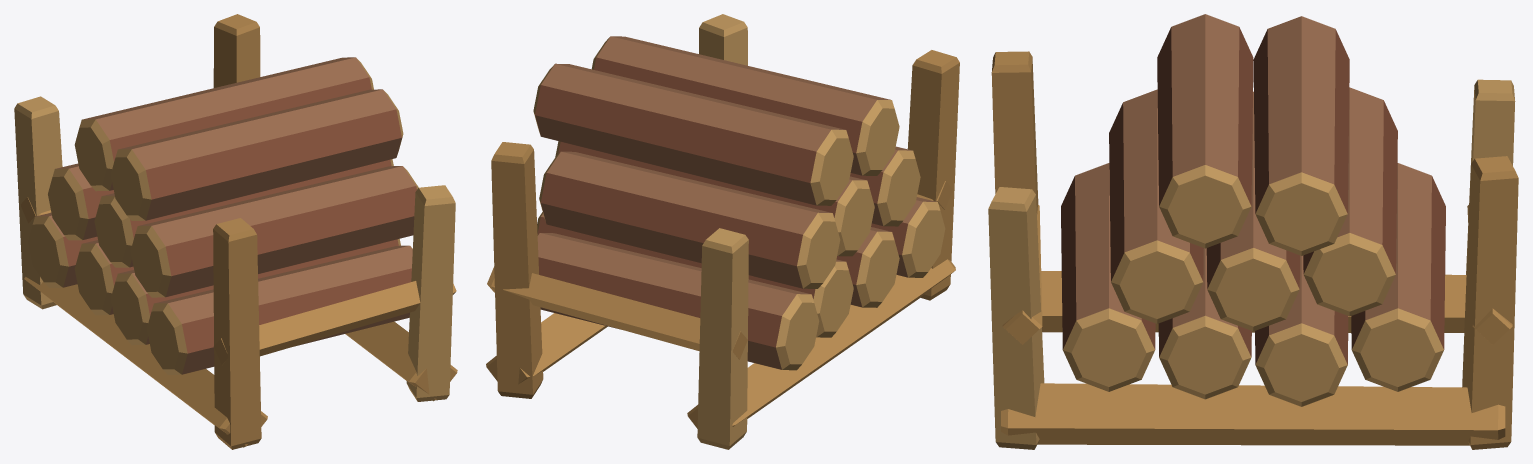
Rendered from LogPileStacked.glb.
3 renders of one model, left to right at view 1: azimuth 30°, elevation 25°; view 2: azimuth 150°, elevation 25°; view 3: azimuth 270°, elevation 25°, orthographic. The views are drawn at different scales.
Visible parts, largest first — view 1: Stack_Log_07, Stack_Log_04, Stack_Log_08, Stack_Log_00, Stake_0_0.001, Stake_1_0.001, Stake_0_1.001, SideRail_0.001, Bearer_0.001, Stack_Log_05, Stack_Log_01, Stack_Log_06 (+4 smaller); view 2: Stack_Log_08, Stack_Log_06, Stack_Log_07, Stack_Log_03, Stake_1_1.001, Stake_0_1.001, Stake_0_0.001, SideRail_1.001, Bearer_0.001, Stack_Log_05, Stack_Log_02, Stack_Log_00 (+4 smaller); view 3: Bearer_1.001, Stack_Log_08, Stack_Log_07, Stack_Log_04, Stack_Log_03, Stack_Log_00, Stack_Log_06, Stake_1_1.001, Stake_1_0.001, Stack_Log_02, Stack_Log_05, Stack_Log_01 (+5 smaller).
Part boxes in pixels (left/top/right/bottom): Stack_Log_07: left=110, top=89, right=403, bottom=220; Stack_Log_04: left=130, top=166, right=418, bottom=297; Stack_Log_08: left=74, top=57, right=373, bottom=191; Stack_Log_00: left=147, top=245, right=412, bottom=374; Stake_0_0.001: left=213, top=218, right=261, bottom=449; Stake_1_0.001: left=406, top=185, right=455, bottom=401; Stake_0_1.001: left=14, top=96, right=62, bottom=309; SideRail_0.001: left=213, top=281, right=456, bottom=365; Bearer_0.001: left=24, top=277, right=267, bottom=447; Stack_Log_05: left=94, top=159, right=393, bottom=267; Stack_Log_01: left=110, top=239, right=400, bottom=345; Stack_Log_06: left=48, top=163, right=114, bottom=240; Stack_Log_08: left=533, top=63, right=853, bottom=205; Stack_Log_06: left=539, top=151, right=840, bottom=288; Stack_Log_07: left=591, top=36, right=899, bottom=175; Stack_Log_03: left=537, top=233, right=819, bottom=370; Stake_1_1.001: left=491, top=142, right=543, bottom=398; Stake_0_1.001: left=697, top=228, right=748, bottom=449; Stake_0_0.001: left=907, top=50, right=959, bottom=300; SideRail_1.001: left=487, top=266, right=747, bottom=359; Bearer_0.001: left=687, top=259, right=955, bottom=428; Stack_Log_05: left=555, top=141, right=874, bottom=256; Stack_Log_02: left=537, top=212, right=853, bottom=337; Stack_Log_00: left=871, top=197, right=945, bottom=277; Bearer_1.001: left=1001, top=383, right=1505, bottom=445; Stack_Log_08: left=1253, top=16, right=1349, bottom=255; Stack_Log_07: left=1157, top=14, right=1253, bottom=248; Stack_Log_04: left=1109, top=89, right=1203, bottom=323; Stack_Log_03: left=1351, top=163, right=1445, bottom=391; Stack_Log_00: left=1061, top=163, right=1155, bottom=391; Stack_Log_06: left=1303, top=87, right=1397, bottom=316; Stake_1_1.001: left=1462, top=156, right=1518, bottom=449; Stake_1_0.001: left=988, top=187, right=1044, bottom=449; Stack_Log_02: left=1255, top=255, right=1348, bottom=406; Stack_Log_05: left=1206, top=91, right=1299, bottom=331; Stack_Log_01: left=1158, top=248, right=1251, bottom=399.
Size of the model in its own units: 1.38 by 1.17 by 1.87.
